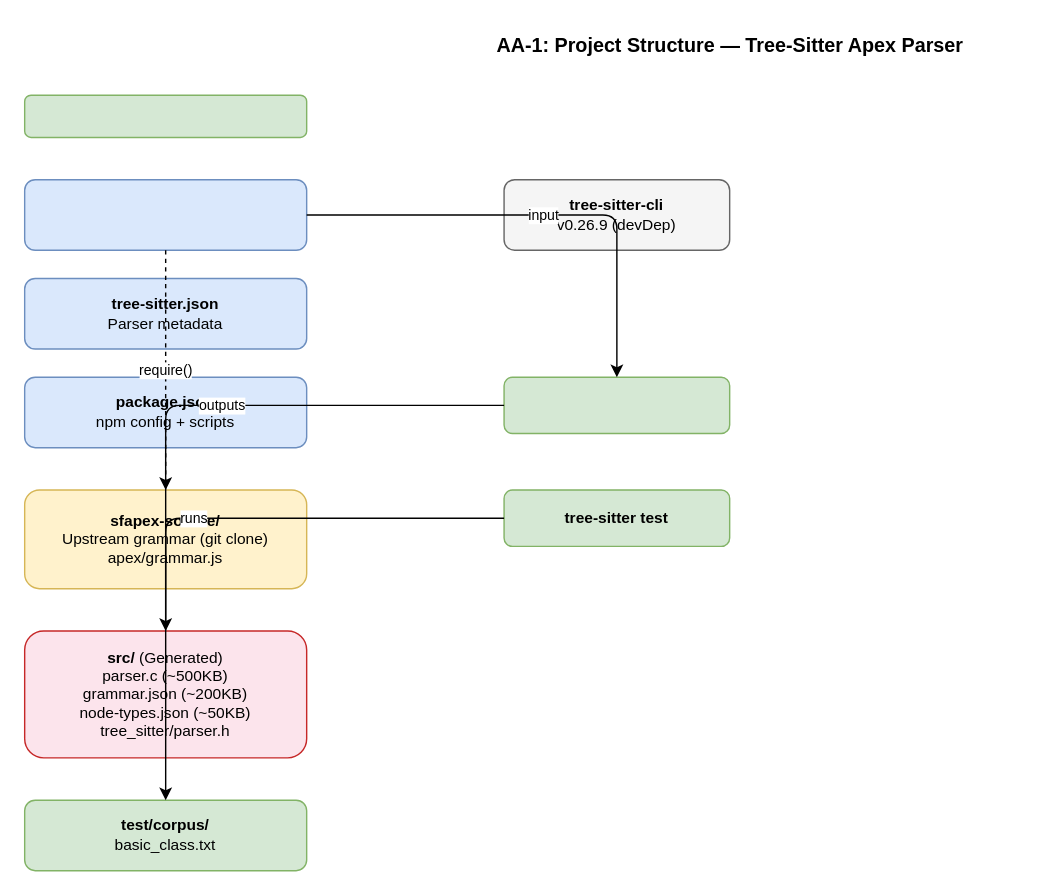
The diagram is 1050 pixels wide and 895 high, and some of its shapes have lost their labels. The shapes that lost their labels are listed below. From the top down, each one's box as (x1, y1, x2, y2) in pixels, then its label:
(23, 94, 307, 137): salesforce-ast/
(23, 178, 307, 250): grammar.js Entry point (inherits sfapex)
(503, 376, 730, 434): tree-sitter generate
